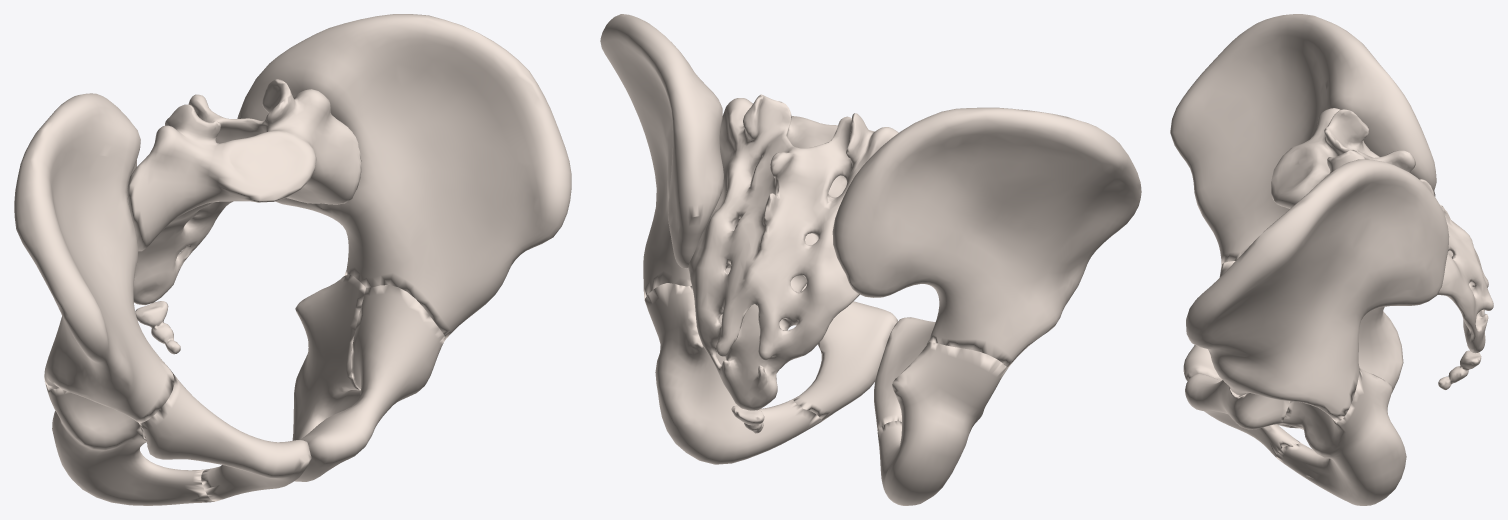
File: vh_m_pelvis-80.glb
3 views of the same model, side by side, from view 1: azimuth 30°, elevation 25°; view 2: azimuth 150°, elevation 25°; view 3: azimuth 270°, elevation 25° (orthographic). The views are drawn at different scales.
Visible parts, largest first — view 1: VH_M_ilium_compact_bone_L, VH_M_ilium_compact_bone_R, VH_M_sacrum, VH_M_pubis_compact_bone_L, VH_M_ischium_compact_bone_R, VH_M_pubis_compact_bone_R, VH_M_ischium_compact_bone_L, VH_M_coccyx; view 2: VH_M_ilium_compact_bone_R, VH_M_sacrum, VH_M_ilium_compact_bone_L, VH_M_ischium_compact_bone_L, VH_M_ischium_compact_bone_R, VH_M_pubis_compact_bone_L, VH_M_pubis_compact_bone_R; view 3: VH_M_ilium_compact_bone_L, VH_M_ilium_compact_bone_R, VH_M_ischium_compact_bone_L, VH_M_sacrum, VH_M_pubis_compact_bone_L, VH_M_ischium_compact_bone_R, VH_M_pubis_compact_bone_R, VH_M_coccyx.
Part boxes in pixels (bbox=[...]): VH_M_ilium_compact_bone_L: bbox=[237, 14, 571, 338]; VH_M_ilium_compact_bone_R: bbox=[14, 93, 174, 423]; VH_M_sacrum: bbox=[127, 79, 361, 305]; VH_M_pubis_compact_bone_L: bbox=[295, 285, 445, 481]; VH_M_ischium_compact_bone_R: bbox=[45, 384, 214, 505]; VH_M_pubis_compact_bone_R: bbox=[139, 369, 311, 501]; VH_M_ischium_compact_bone_L: bbox=[292, 274, 365, 440]; VH_M_coccyx: bbox=[135, 301, 180, 354]; VH_M_ilium_compact_bone_R: bbox=[832, 107, 1141, 367]; VH_M_sacrum: bbox=[688, 94, 898, 410]; VH_M_ilium_compact_bone_L: bbox=[600, 14, 723, 299]; VH_M_ischium_compact_bone_L: bbox=[644, 268, 821, 464]; VH_M_ischium_compact_bone_R: bbox=[878, 342, 1007, 505]; VH_M_pubis_compact_bone_L: bbox=[793, 284, 897, 421]; VH_M_pubis_compact_bone_R: bbox=[874, 317, 935, 433]; VH_M_ilium_compact_bone_L: bbox=[1186, 159, 1449, 421]; VH_M_ilium_compact_bone_R: bbox=[1170, 14, 1436, 264]; VH_M_ischium_compact_bone_L: bbox=[1276, 367, 1406, 505]; VH_M_sacrum: bbox=[1271, 108, 1493, 353]; VH_M_pubis_compact_bone_L: bbox=[1185, 373, 1299, 457]; VH_M_ischium_compact_bone_R: bbox=[1289, 307, 1403, 428]; VH_M_pubis_compact_bone_R: bbox=[1183, 261, 1291, 427]; VH_M_coccyx: bbox=[1438, 350, 1481, 389].
Bounding box in the file's own units: 0.2835 × 0.2185 × 0.1728.
